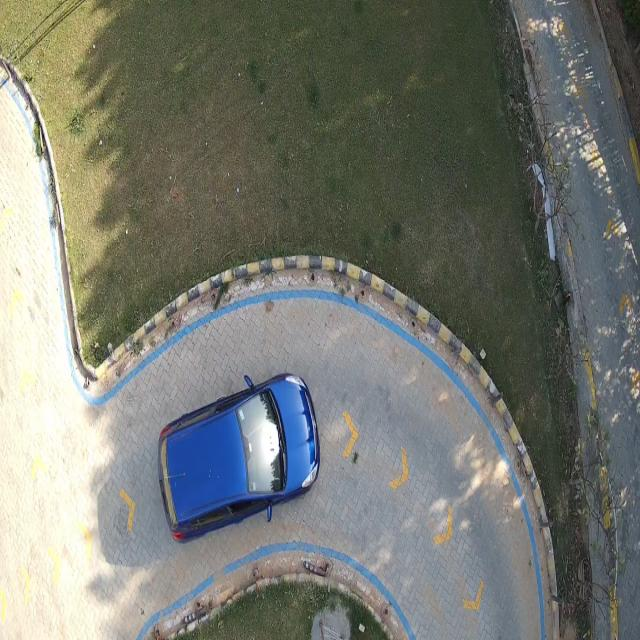car: (158, 371, 321, 545)
